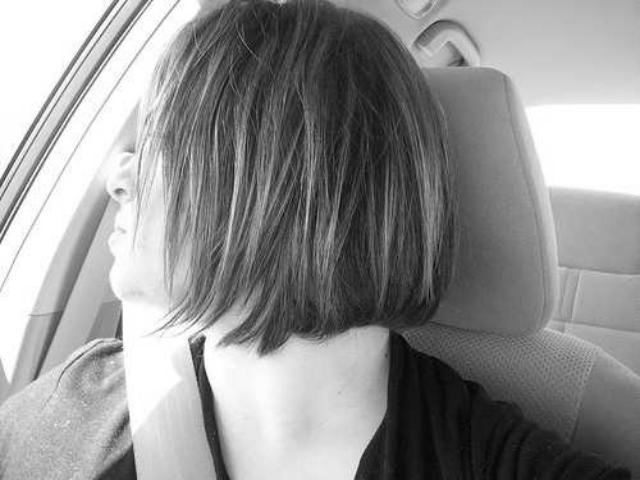Seatbelt: (117, 290, 225, 480)
